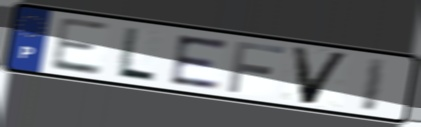E: (47, 14, 111, 77), (168, 33, 230, 91)
F: (225, 39, 289, 95)
I: (358, 55, 390, 114)
L: (112, 25, 159, 85)
V: (288, 44, 354, 107)
